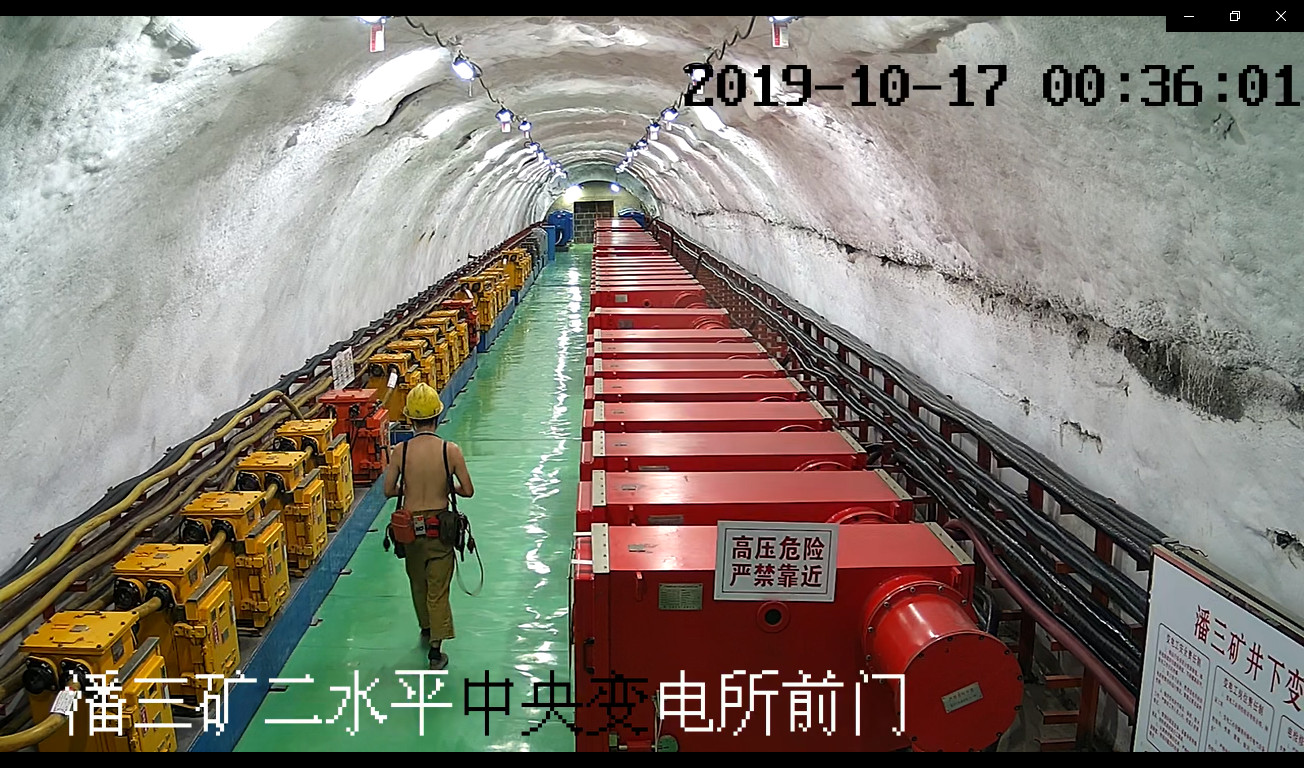helmet: (402, 382, 444, 419)
